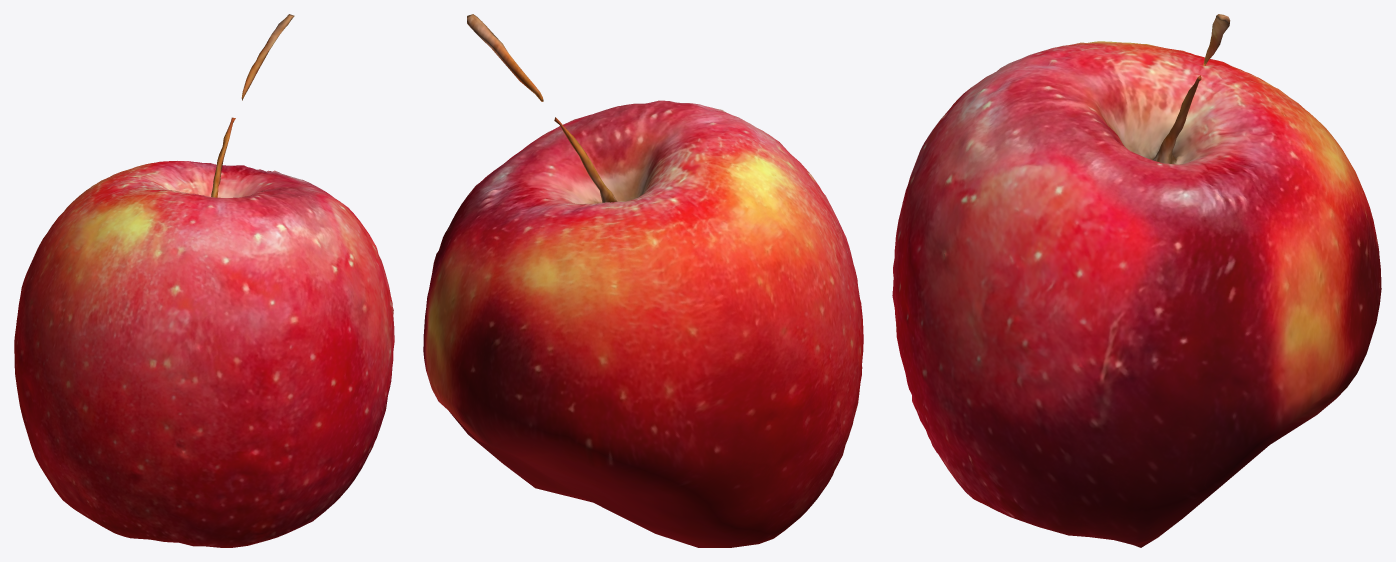
File: 3DModel.obj
The picture shows the model from 3 angles, left to right: view 1: azimuth 30°, elevation 25°; view 2: azimuth 150°, elevation 25°; view 3: azimuth 270°, elevation 25°; orthographic projection. The views are drawn at different scales.
Parts seen in each view (by area): view 1: 3DModel; view 2: 3DModel; view 3: 3DModel.
Part boxes in pixels (left/top/right/bottom): 3DModel: left=14, top=14, right=394, bottom=547; 3DModel: left=423, top=14, right=863, bottom=547; 3DModel: left=892, top=14, right=1381, bottom=547.
Bounding box in the file's own units: 0.066 × 0.0823 × 0.0661.
1 material, 1 textured.
